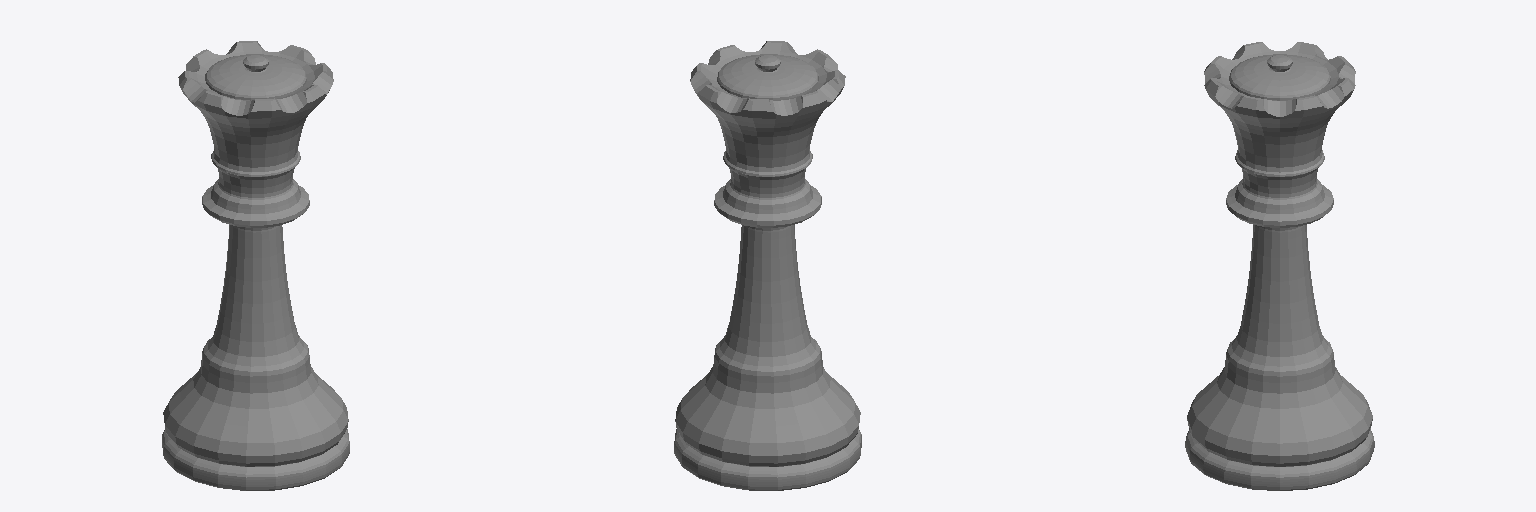
The model's file is branco-rainha.obj.
3 renders of one model, left to right at view 1: azimuth 30°, elevation 25°; view 2: azimuth 150°, elevation 25°; view 3: azimuth 270°, elevation 25°, orthographic.
Parts seen in each view (by area): view 1: REGINA2; view 2: REGINA2; view 3: REGINA2.
Boxes of the visible parts, box(x1,y1,x2,y2) form: REGINA2: box(162, 41, 349, 490); REGINA2: box(674, 41, 861, 490); REGINA2: box(1185, 42, 1374, 490).
Size of the model in its own units: 186 by 429 by 186.